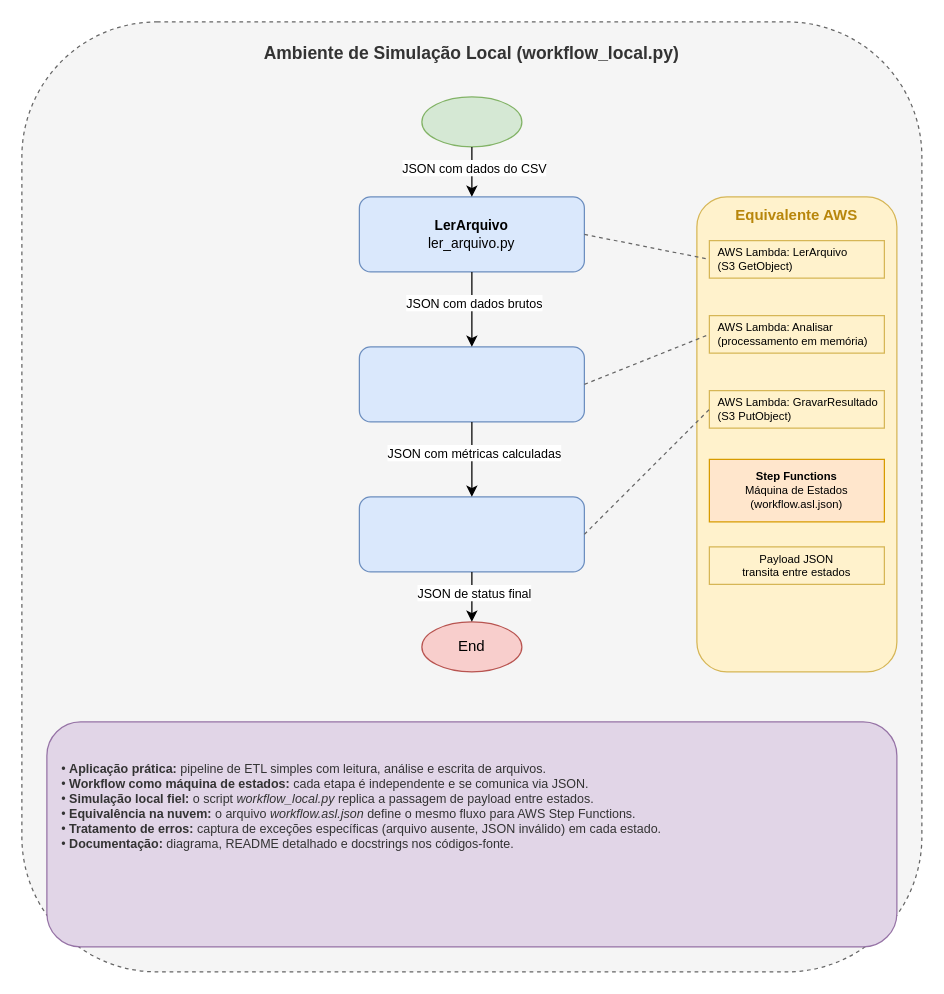
The diagram is 944 pixels wide and 994 high, and some of its shapes have lost their labels. Each missing label, with the box of its shape:
Analisar analisar.py: (358, 346, 584, 422)
GravarResultado gravar_resultado.py: (358, 496, 584, 572)
Start: (421, 96, 522, 147)
📌 Objetivos do Desafio e Insights: (46, 721, 897, 947)
